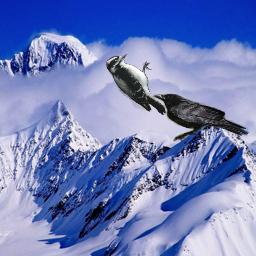Crow: (153, 93, 249, 142)
Woodpecker: (106, 54, 166, 115)
